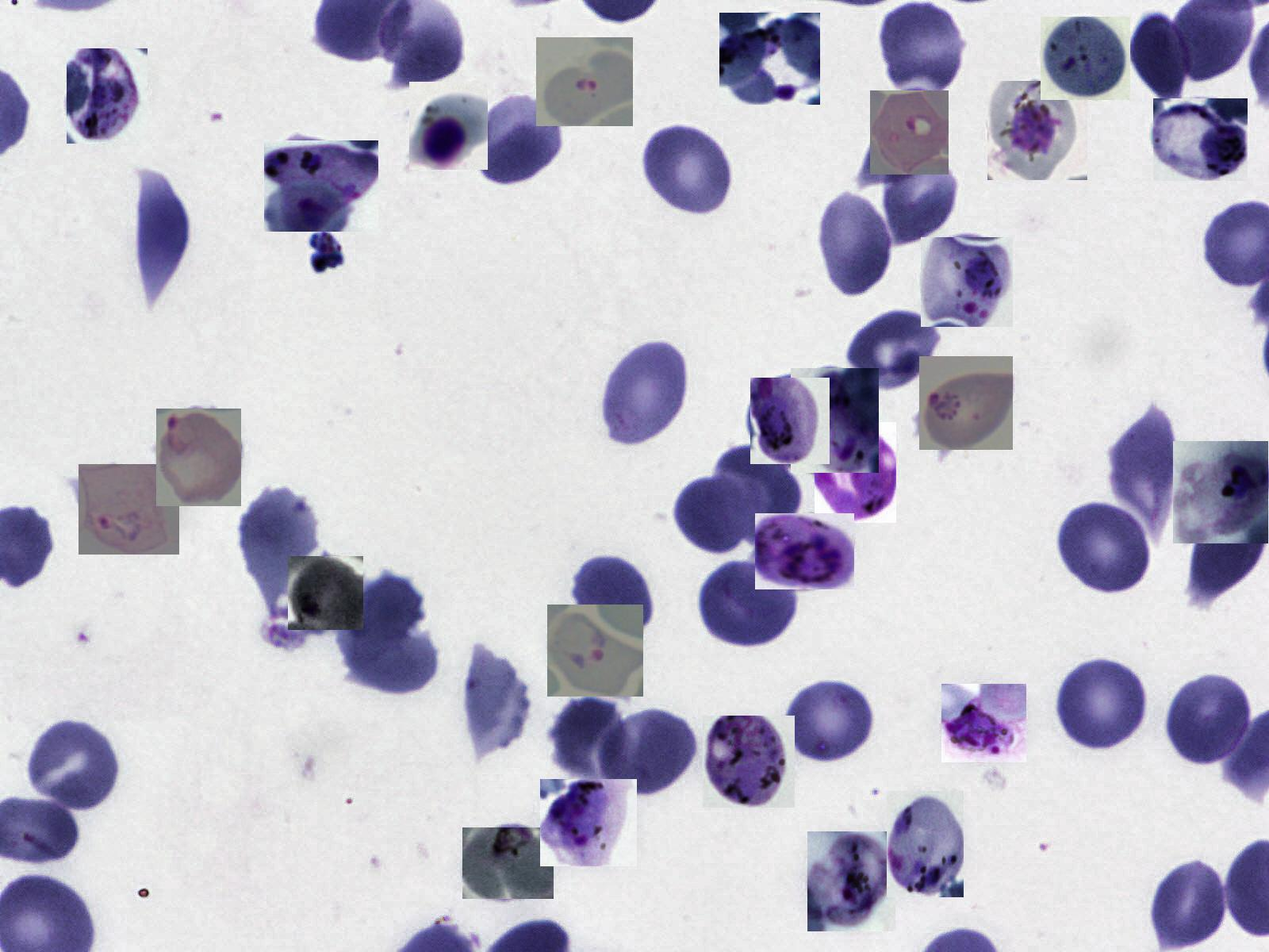Infected: (265, 140, 379, 232), (987, 81, 1087, 180), (1173, 441, 1268, 543), (719, 13, 820, 105), (791, 368, 879, 473), (79, 464, 179, 555), (919, 356, 1013, 450), (547, 605, 643, 697), (807, 831, 895, 931), (536, 37, 633, 126), (703, 716, 795, 808), (540, 779, 637, 866), (921, 237, 1013, 327), (156, 409, 241, 506), (815, 422, 896, 523), (887, 791, 964, 897), (1153, 98, 1248, 181), (67, 48, 148, 144), (755, 513, 854, 589), (1041, 17, 1130, 100), (409, 82, 488, 170), (750, 378, 830, 464), (870, 90, 949, 175), (941, 684, 1026, 762), (462, 827, 554, 899), (288, 556, 363, 630)
Uninfected: (1049, 659, 1150, 756), (236, 489, 320, 605), (469, 94, 567, 188), (339, 612, 444, 699), (602, 339, 689, 444), (24, 718, 119, 812), (1183, 497, 1263, 608), (878, 1, 969, 98), (1060, 502, 1150, 600), (815, 192, 897, 299), (459, 648, 535, 762), (702, 561, 797, 649), (603, 707, 694, 797), (1167, 674, 1252, 769), (136, 167, 193, 305), (644, 124, 732, 212), (721, 445, 801, 541), (878, 152, 959, 245), (1114, 413, 1183, 521), (1151, 858, 1230, 950), (549, 693, 631, 781), (843, 313, 937, 389), (575, 553, 652, 641), (674, 475, 760, 551), (788, 685, 873, 758), (1129, 11, 1194, 99), (355, 570, 428, 647)
